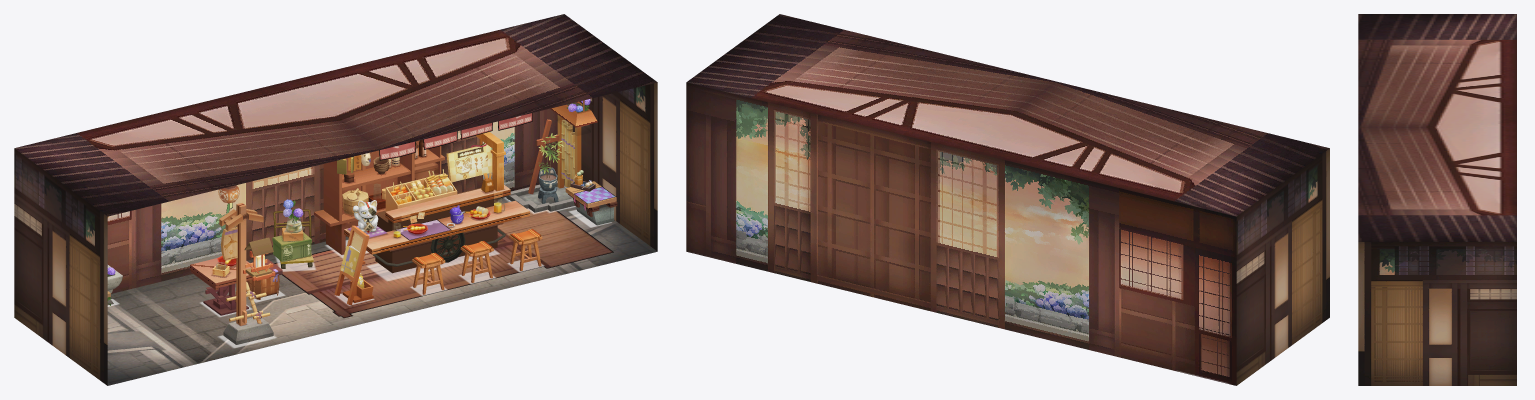
File: odenShop.glb
3 views of the same model, side by side, from view 1: azimuth 30°, elevation 25°; view 2: azimuth 150°, elevation 25°; view 3: azimuth 270°, elevation 25° (orthographic). The views are drawn at different scales.
Parts seen in each view (by area): view 1: ROOM_room, ROOM_floor, furni_odenShop_carpet_01, furni_odenShop_bar_02, furni_odenShop_shelf_02.001, furni_odenShop_bar_01, furni_odenShop_billBoard_02, furni_odenShop_plant_02, furni_odenShop_shelf_03.001, furni_odenShop_plant_01, ROOM_LDoor, furni_odenShop_banner_02 (+11 smaller); view 2: ROOM_room, ROOM_LDoor; view 3: ROOM_room, ROOM_RDoor.
Boxes of the visible parts, <box> form: ROOM_room: <box>14,14,657,385</box>; ROOM_floor: <box>107,183,657,385</box>; furni_odenShop_carpet_01: <box>274,208,613,317</box>; furni_odenShop_bar_02: <box>344,132,529,256</box>; furni_odenShop_shelf_02.001: <box>314,139,444,254</box>; furni_odenShop_bar_01: <box>347,178,505,273</box>; furni_odenShop_billBoard_02: <box>219,203,275,325</box>; furni_odenShop_plant_02: <box>536,115,581,194</box>; furni_odenShop_shelf_03.001: <box>342,140,438,228</box>; furni_odenShop_plant_01: <box>506,119,574,212</box>; ROOM_LDoor: <box>74,285,93,375</box>; furni_odenShop_banner_02: <box>342,113,532,160</box>; ROOM_room: <box>686,14,1329,385</box>; ROOM_LDoor: <box>1297,251,1316,341</box>; ROOM_room: <box>1358,14,1516,385</box>; ROOM_RDoor: <box>1381,320,1414,385</box>.
Size of the model in its own units: 7.48 by 2.2 by 2.25.
7 materials, 7 textured.
